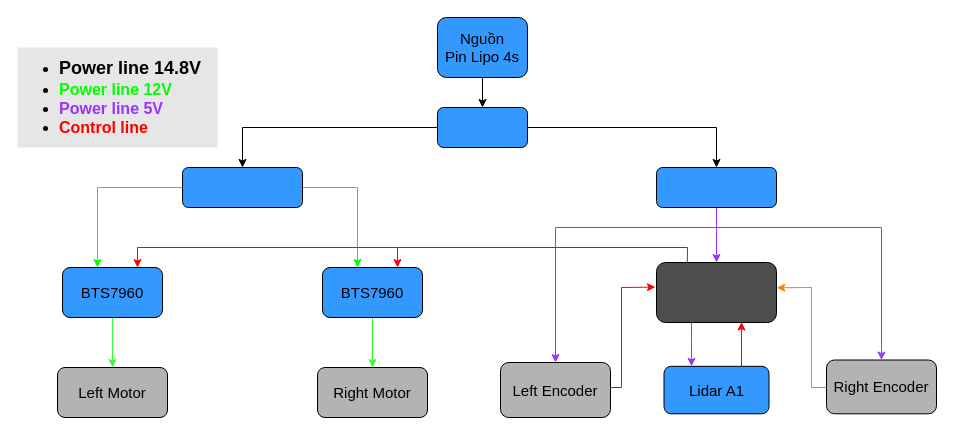
The diagram is 954 pixels wide and 435 high, and some of its shapes have lost their labels. Each missing label, with the centre of its shape:
"BeagleBone Black" goes at point (716, 292).
"LM2596 12V" goes at point (242, 187).
"LM2596 5V" goes at point (716, 187).
"Switch On/Off" goes at point (482, 127).
